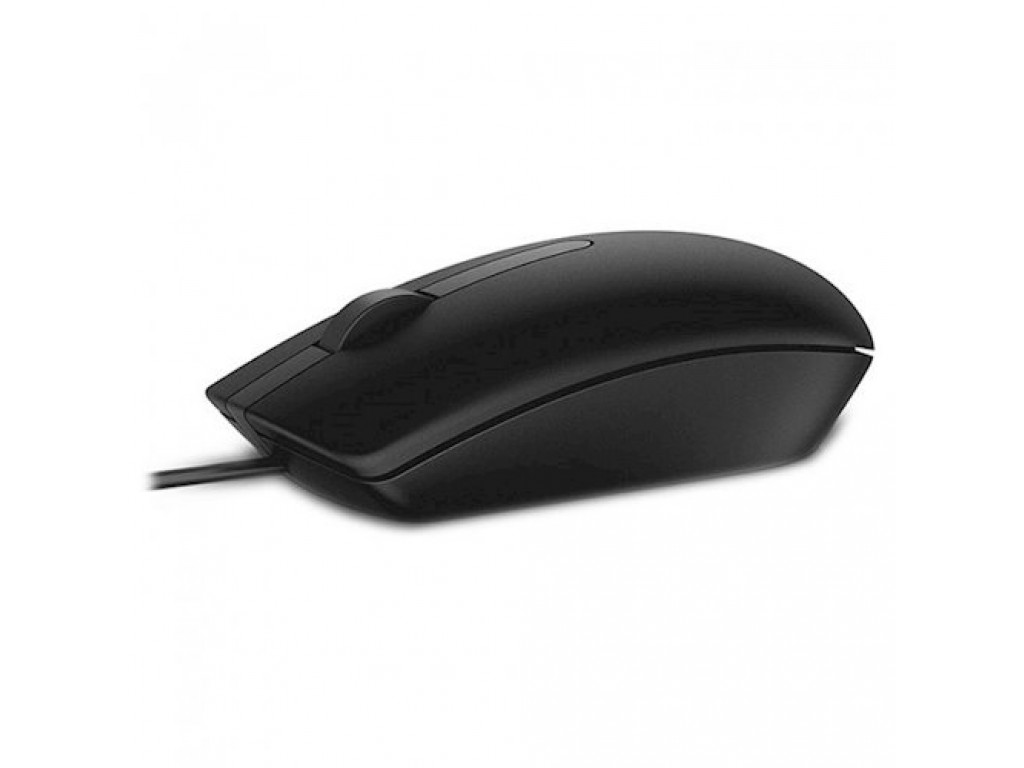dell-mouse-ms116: (140, 213, 879, 530)
